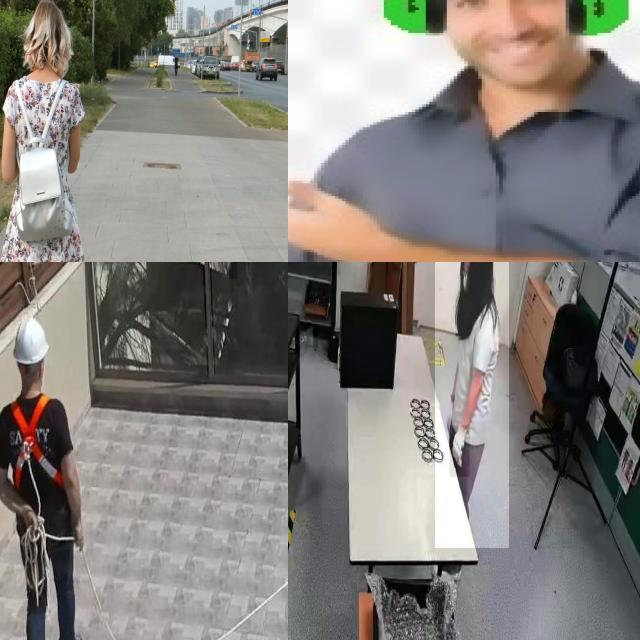Ear-protection: (341, 0, 640, 43)
Harness: (10, 394, 64, 488)
hand_glove: (450, 425, 470, 478)
person: (434, 262, 509, 549)
